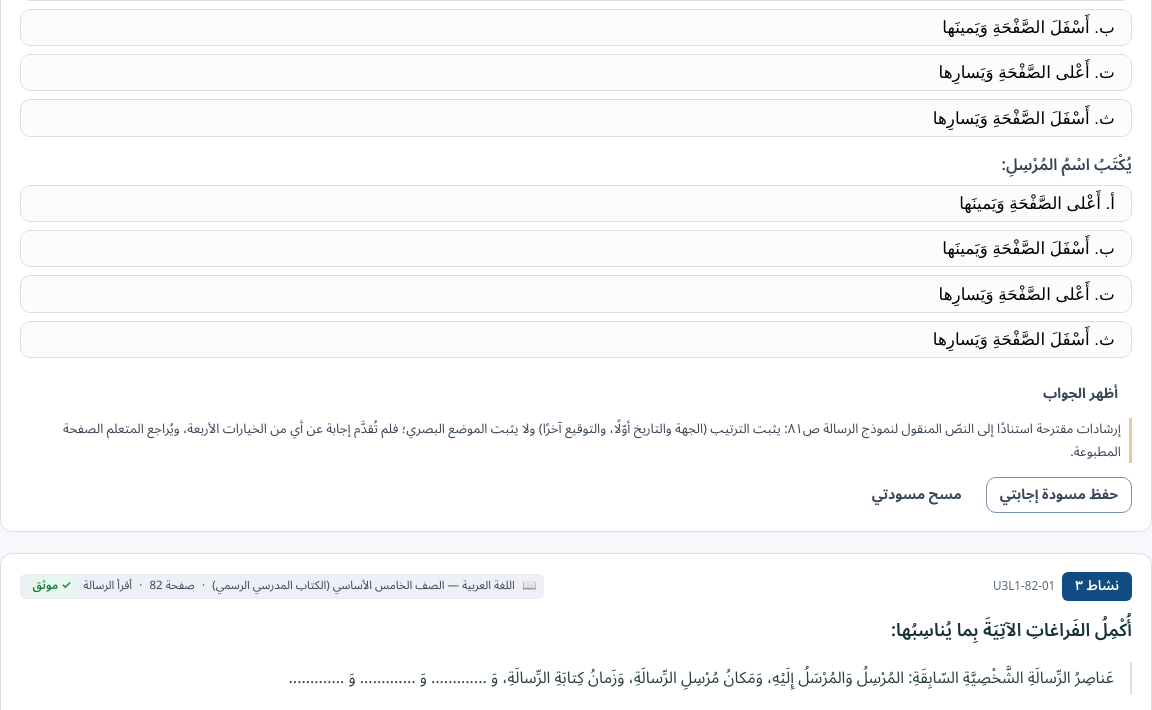
Test case: point 2 — U3L1-81-03 is not answered by a guess › the learner sees the settled order and the open position side by side
(page scrolled)
Click the button "أظهر الجواب": (1080, 395) left=1029, top=377, right=1132, bottom=413
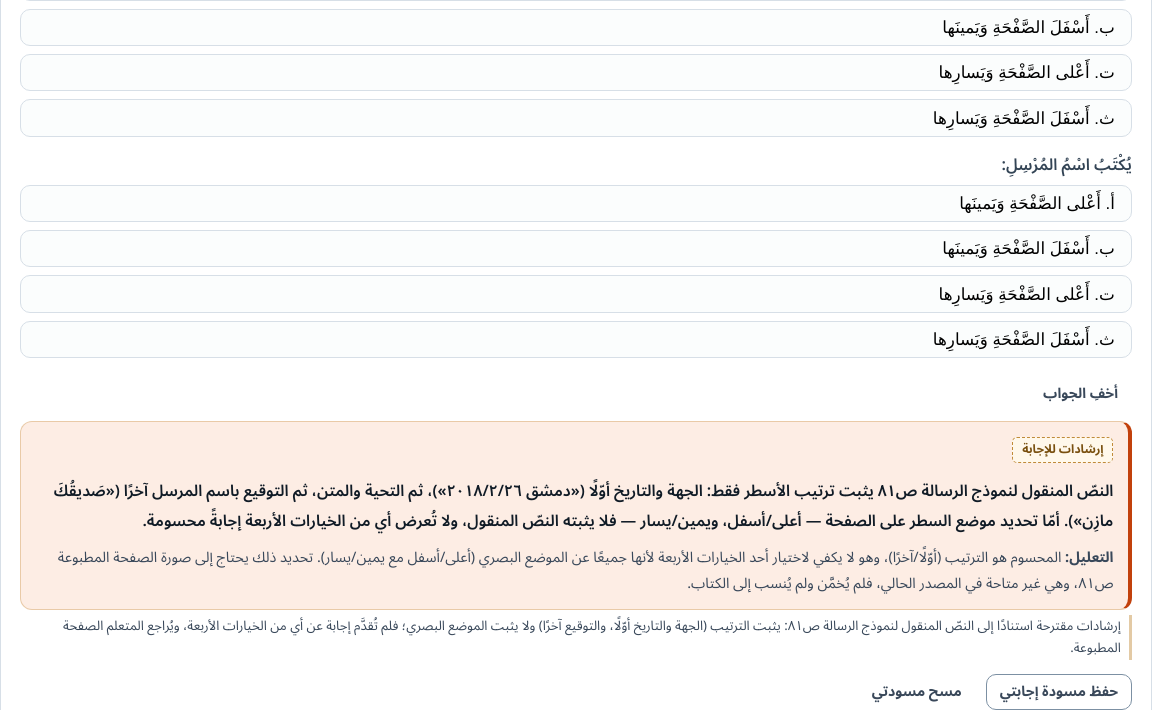
Expected: the text "إرشادات مقترحة استنادًا إلى النصّ المنقول لنموذج الرسالة ص٨١: يثبت الترتيب (الجهة والتاريخ أوّلًا، والتوقيع آخرًا) ولا ي" is shown, left=63, top=612, right=1121, bottom=662
Now the text "النصّ المنقول لنموذج الرسالة ص٨١ يثبت ترتيب الأسطر فقط: الجهة والتاريخ أوّلًا («دمشق ٢٠١٨/٢/٢٦»)، ثم التحية والمتن، ثم ا" is shown, box left=54, top=474, right=1113, bottom=538
